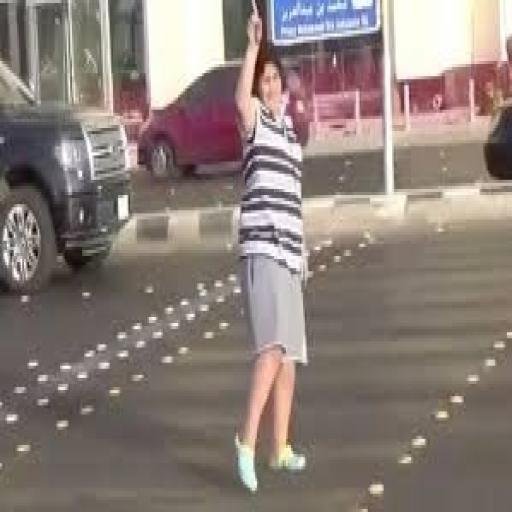dancing: (230, 3, 314, 497)
